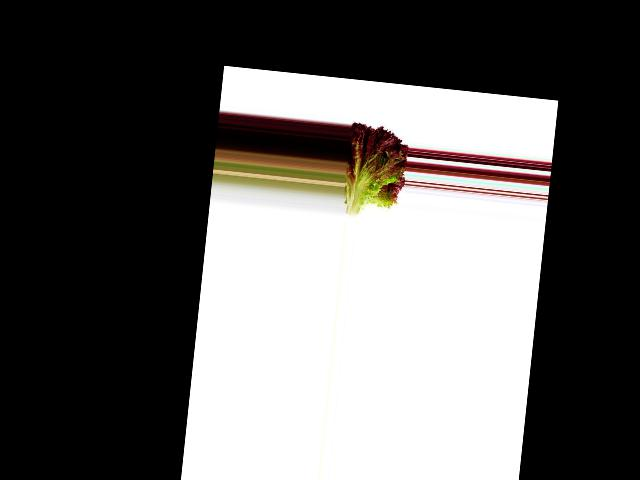lettuce: (341, 116, 409, 222)
